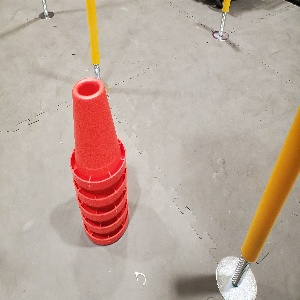Red_5: (57, 77, 135, 252)
